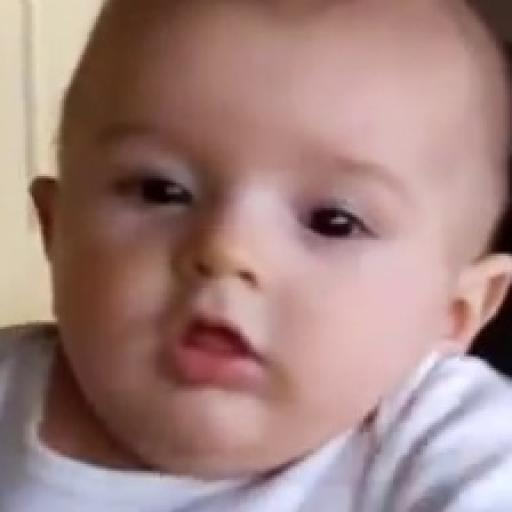Autism: (34, 10, 512, 484)
